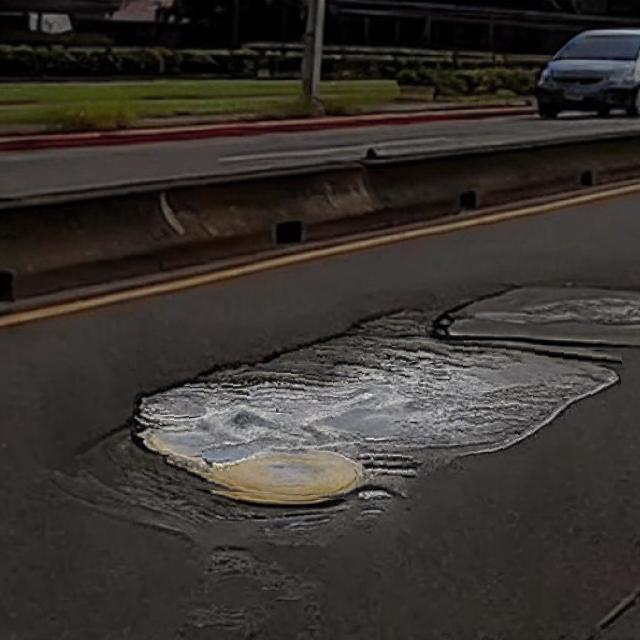puddle: (131, 329, 621, 512)
